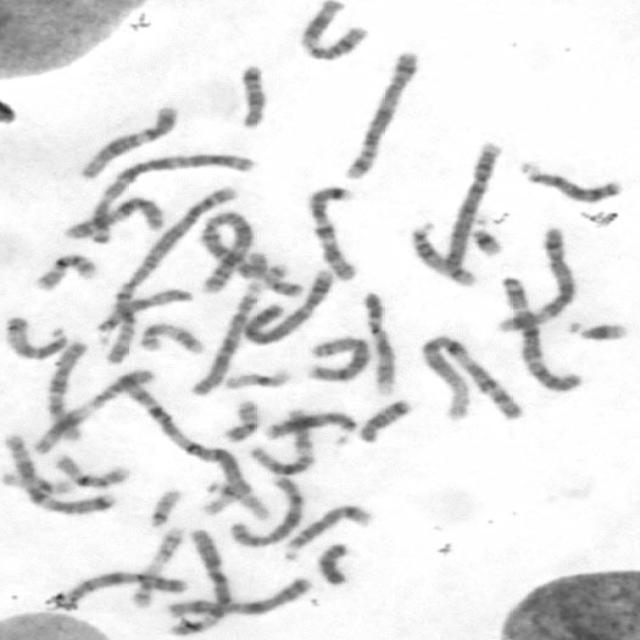A1: (116, 373, 252, 514), (414, 332, 528, 422)
A2: (94, 182, 244, 363), (193, 209, 260, 295)
A3: (77, 148, 256, 245), (496, 272, 583, 393)
B4: (435, 138, 502, 283), (238, 266, 335, 345)
B5: (339, 46, 422, 180), (494, 226, 586, 334)
C10: (61, 195, 171, 241), (41, 338, 89, 443)
C11: (27, 365, 158, 456), (295, 0, 370, 63)
C12: (74, 101, 182, 180), (246, 403, 316, 476)
C6: (189, 249, 269, 398), (167, 536, 239, 638)
C7: (5, 432, 117, 515), (302, 182, 360, 283)
C8: (225, 476, 314, 550), (305, 333, 372, 384)
C9: (55, 567, 191, 610), (355, 291, 402, 398)
D13: (514, 158, 622, 204), (263, 408, 367, 446)
D14: (278, 501, 373, 562), (403, 218, 478, 287)
D15: (94, 284, 211, 349), (2, 313, 70, 361)
E16: (50, 452, 129, 489), (32, 250, 98, 292)
E17: (132, 521, 186, 611), (136, 320, 208, 356)
E18: (356, 395, 412, 444), (234, 61, 269, 130)
F19: (0, 469, 76, 495), (220, 366, 292, 391)
F20: (220, 397, 262, 443), (257, 262, 304, 298)
G21: (563, 318, 628, 342), (468, 224, 505, 258)
G22: (201, 478, 272, 522), (145, 485, 183, 527)
X: (161, 574, 313, 620)
Y: (314, 540, 352, 586)
